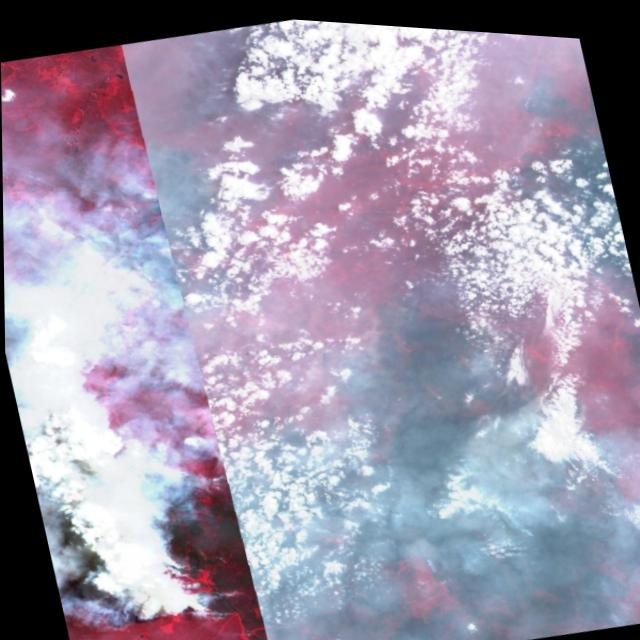fire: (57, 447, 257, 640), (62, 188, 166, 266), (512, 353, 599, 429)
